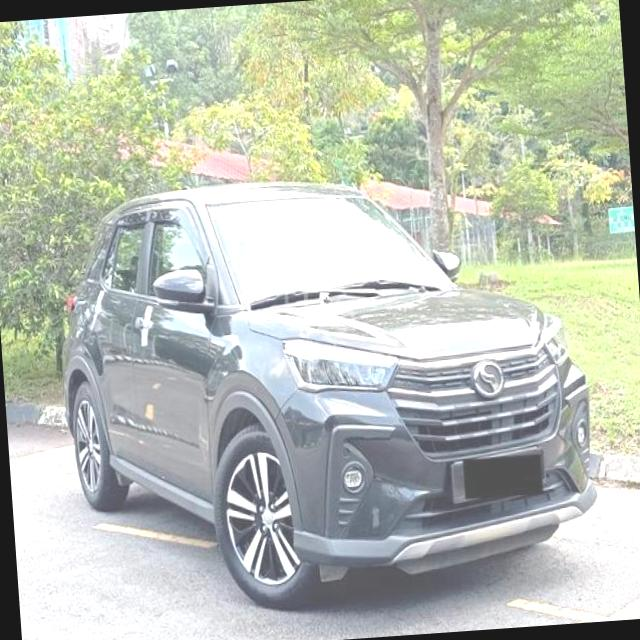PeroduaAtiva: (48, 156, 608, 624)
